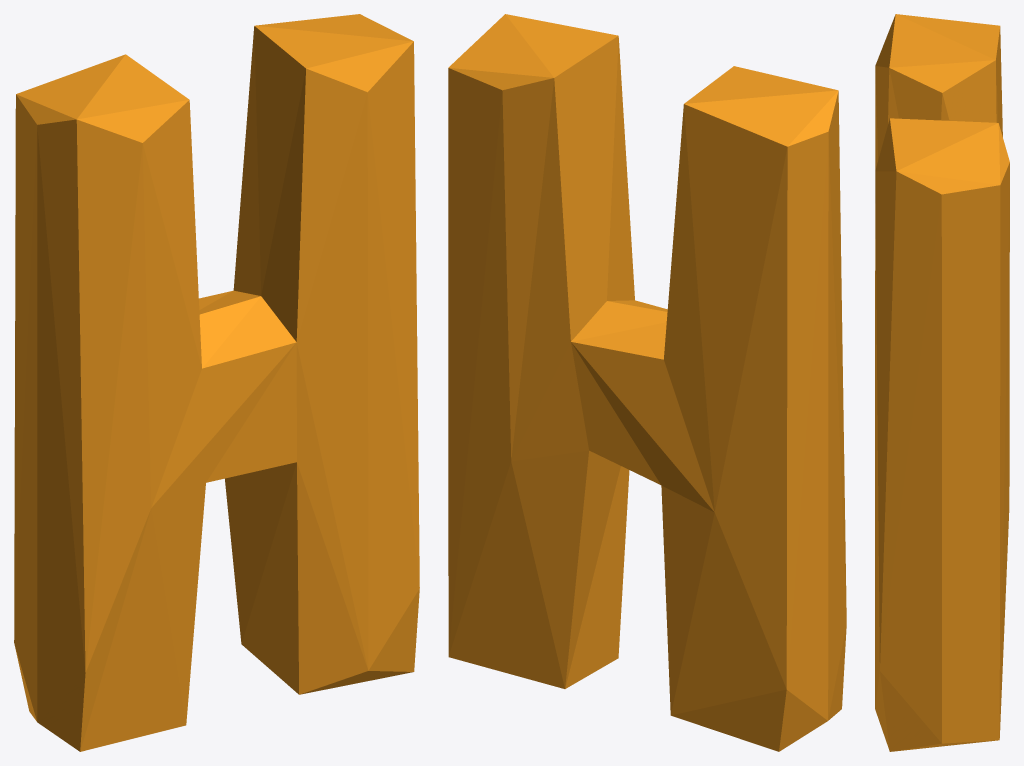
The model's file is SM_Icon_Letter_H_01.fbx.
The picture shows the model from 3 angles, left to right: view 1: azimuth 30°, elevation 25°; view 2: azimuth 150°, elevation 25°; view 3: azimuth 270°, elevation 25°; orthographic projection. The views are drawn at different scales.
Visible parts, largest first — view 1: SM_Icon_Letter_H_01; view 2: SM_Icon_Letter_H_01; view 3: SM_Icon_Letter_H_01.
Part boxes in pixels (x1=…): SM_Icon_Letter_H_01: x1=14, y1=14, x2=419, y2=751; SM_Icon_Letter_H_01: x1=448, y1=14, x2=846, y2=751; SM_Icon_Letter_H_01: x1=875, y1=14, x2=1009, y2=751.
Bounding box in the file's own units: 32.93 × 54.8 × 11.39.
